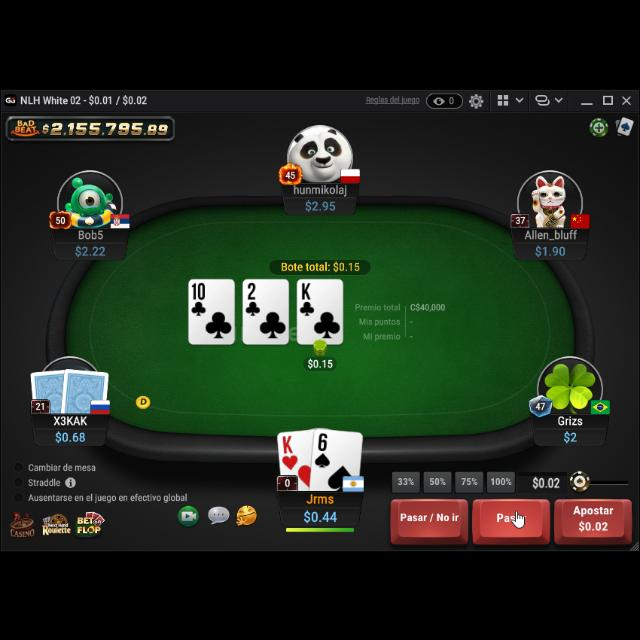2c: (244, 278, 262, 316)
6s: (314, 429, 332, 467)
Kc: (298, 276, 316, 314)
Kh: (280, 429, 300, 468)
Tc: (192, 280, 208, 316)
bet_text: (306, 353, 334, 367)
card_back: (61, 363, 111, 413), (30, 364, 70, 412)
dealer: (134, 392, 152, 408)
hero_active: (388, 493, 636, 543)
pot_text: (280, 256, 362, 270)
stack_text: (302, 503, 338, 521), (302, 196, 338, 210), (74, 241, 106, 255), (54, 427, 86, 441), (534, 240, 566, 254), (562, 426, 578, 440)
